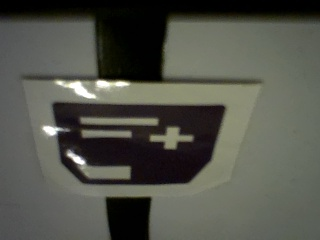Supply_Station: (49, 100, 226, 187)
